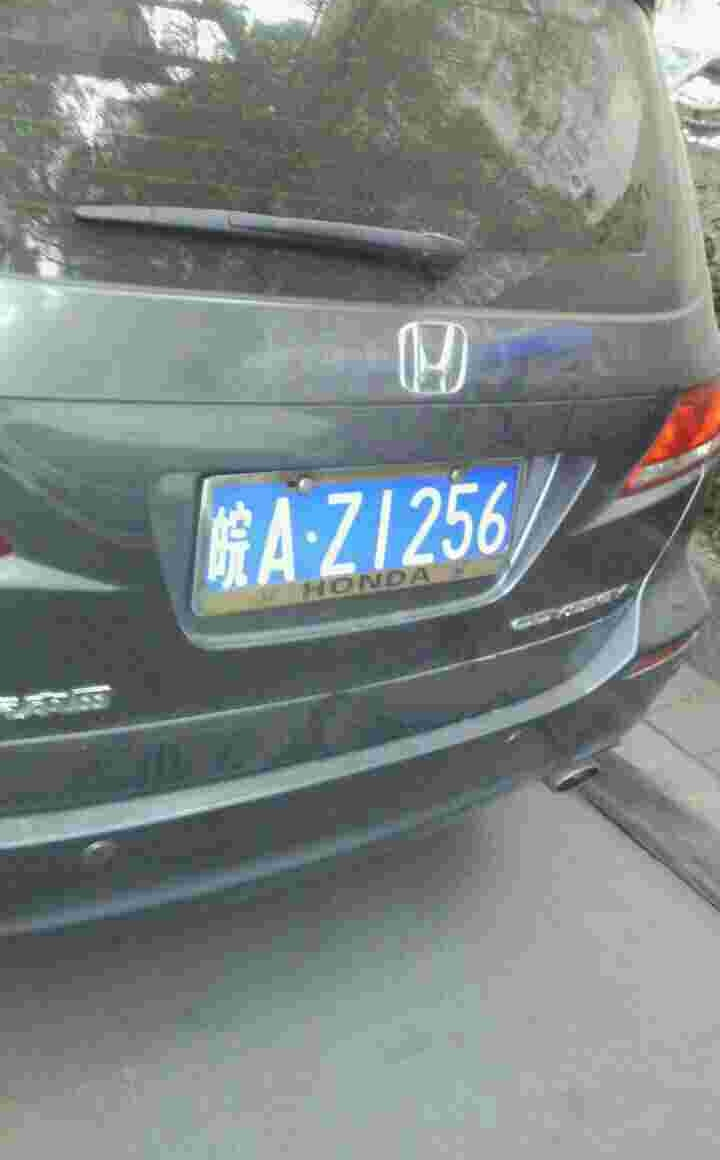license_plate: (210, 466, 517, 599)
